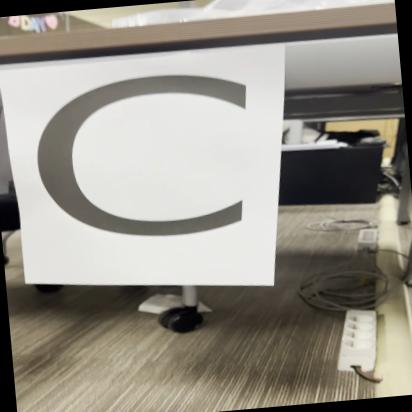seat: (0, 44, 287, 300)
